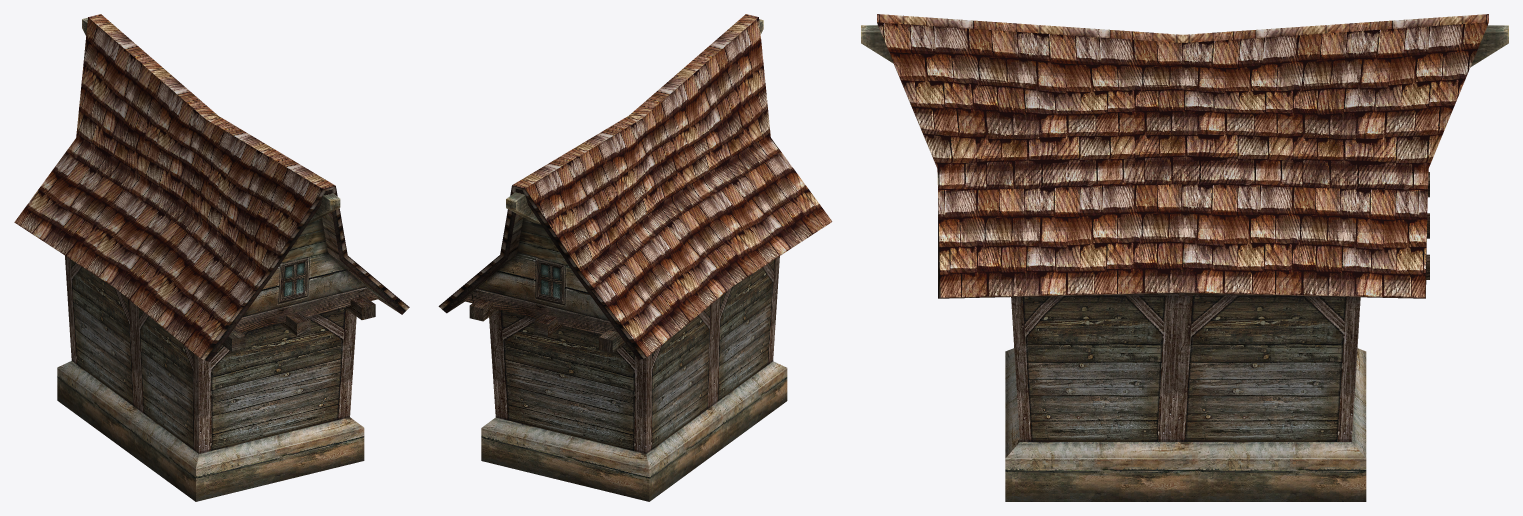
Rendered from loc2_06.glb.
3 views of the same model, side by side, from view 1: azimuth 30°, elevation 25°; view 2: azimuth 150°, elevation 25°; view 3: azimuth 270°, elevation 25° (orthographic). The views are drawn at different scales.
Visible parts, largest first — view 1: loc2_06; view 2: loc2_06; view 3: loc2_06.
Boxes of the visible parts, x1,y1,x2,y2 form: loc2_06: (14,14,409,501); loc2_06: (438,14,832,501); loc2_06: (861,14,1508,501).
Bounding box in the file's own units: 7.26 × 10.92 × 14.9.
Materials: 5 (5 with a texture image).
